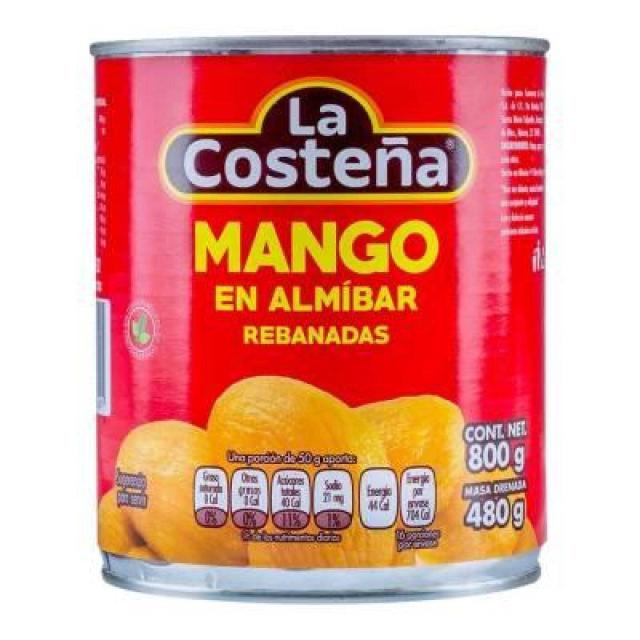Lata: (78, 39, 550, 597)
